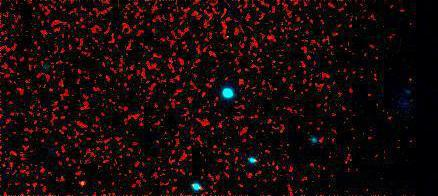star: (68, 168, 98, 196)
